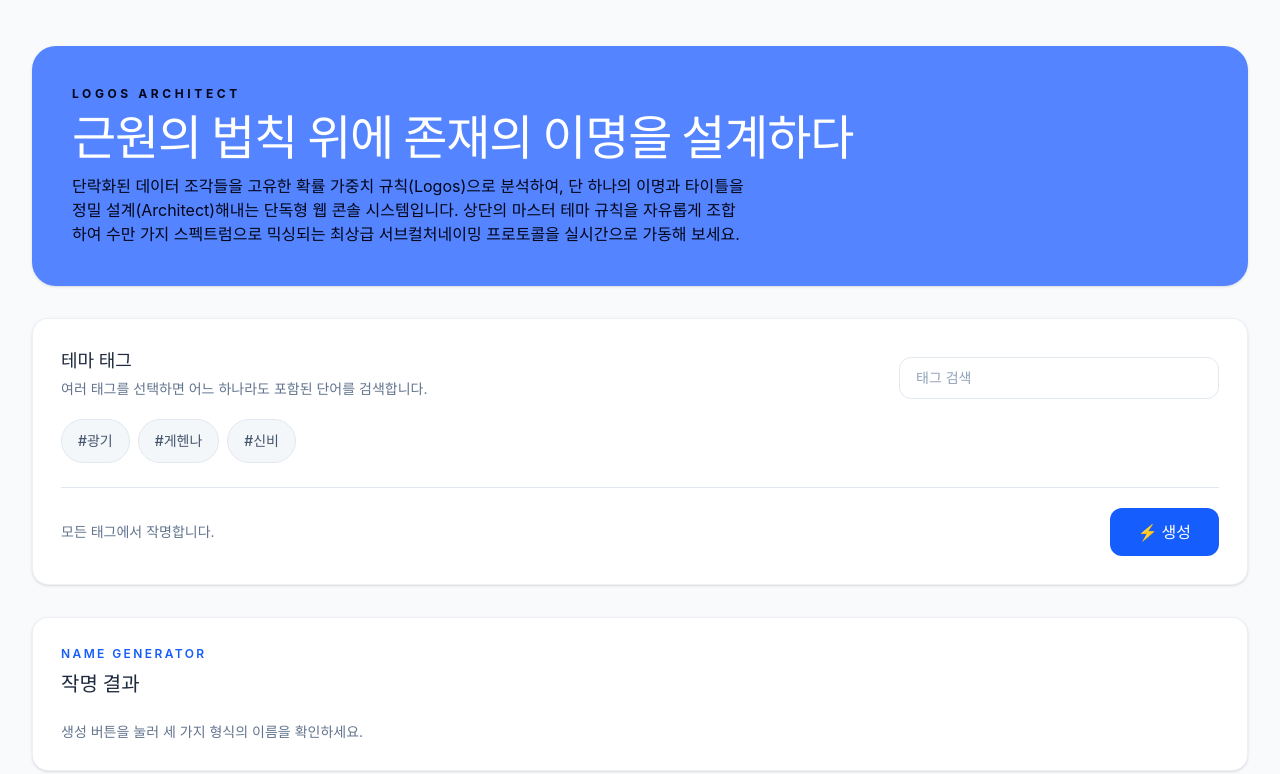
Test: Logos Architect workspace › renders the three generated name formats
Expected: the button with aria-label "#게헨나 태그 선택" is shown, [138,419,219,463]
What coordinates should you click on to do the following:
click the button "⚡ 생성"
I would click on:
 (1164, 532)
Its box is [1110,508,1219,556].
(page scrolled)
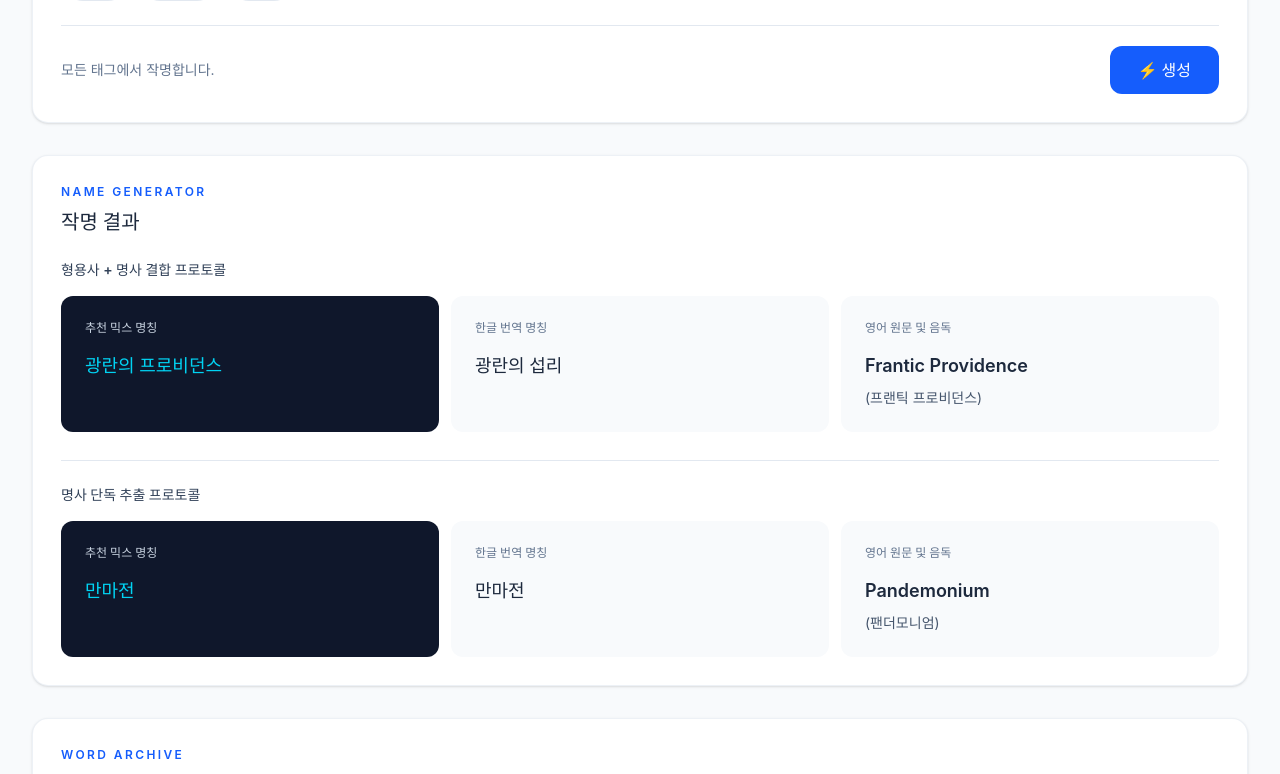
Expected: the text "광란의 프로비던스" is shown, [85,355,222,376]
Expected: the text "광란의 섭리" is shown, [475,355,562,376]
Expected: the text "Frantic Providence" is shown, [865,355,1028,376]
